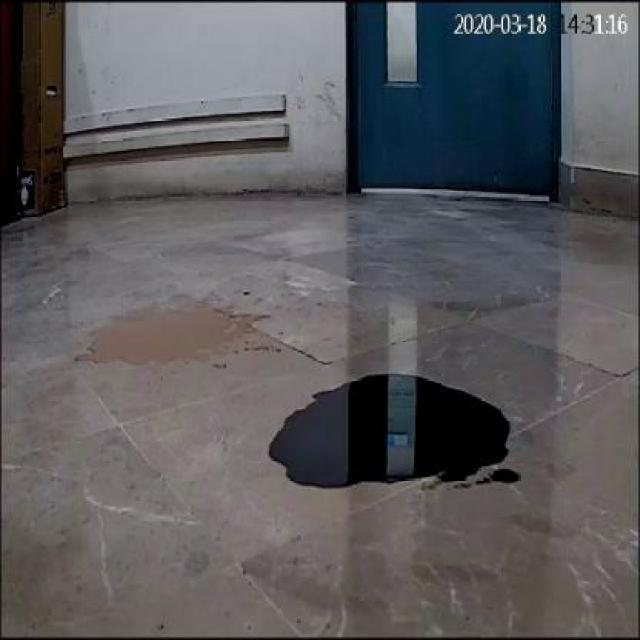spill: (266, 368, 506, 490)
